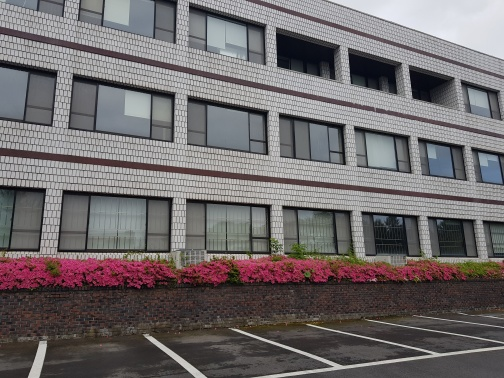Foreign Language Institute: (7, 4, 497, 314), (67, 66, 418, 177)
